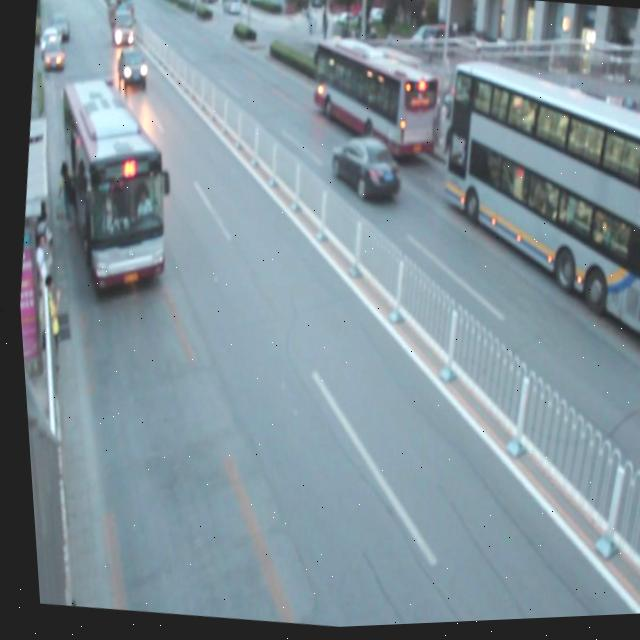car: (324, 134, 401, 206), (112, 45, 149, 93), (39, 37, 67, 74)
van: (420, 59, 640, 349), (34, 76, 183, 299), (300, 31, 443, 166)
